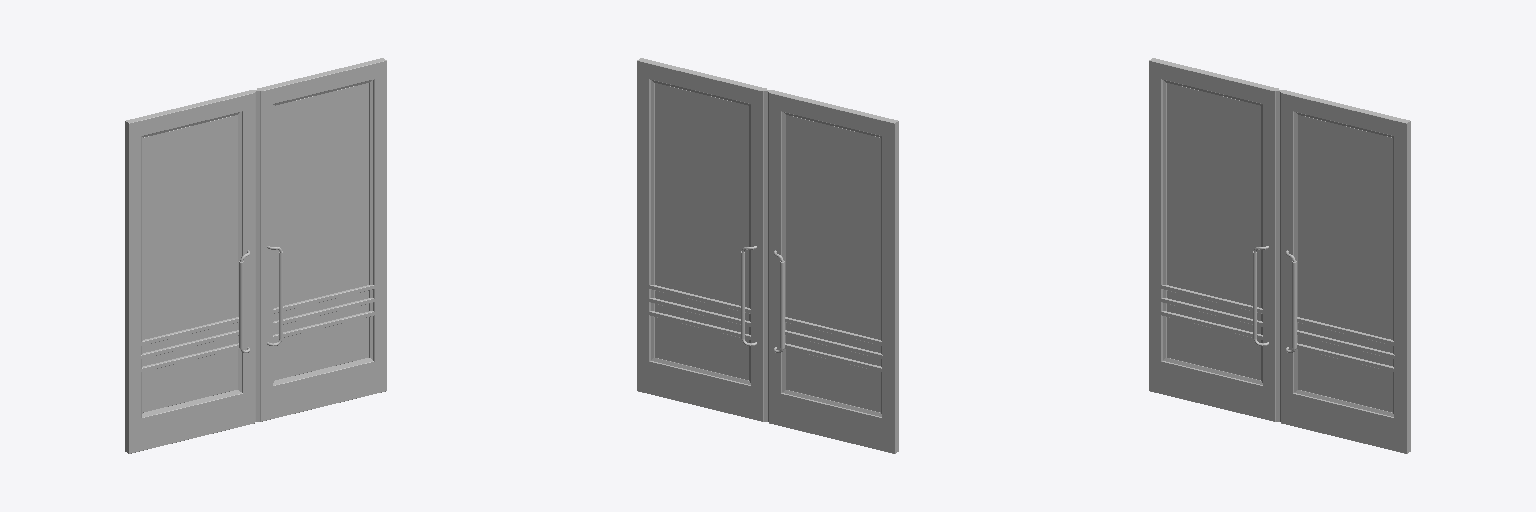
Rendered from Doors - Double - 1.obj.
The picture shows the model from 3 angles: view 1: azimuth 30°, elevation 25°; view 2: azimuth 150°, elevation 25°; view 3: azimuth 330°, elevation 25°; orthographic projection.
Visible parts, largest first — view 1: object7, object3, object5, object1, object2, object6, object4; view 2: object7, object3, object5, object1, object2, object6, object4; view 3: object3, object7, object1, object5, object6, object2, object8.
Part boxes in pixels (left/top/right/bottom): object7: left=143, top=115, right=237, bottom=412; object3: left=275, top=83, right=368, bottom=379; object5: left=125, top=90, right=254, bottom=453; object1: left=257, top=58, right=386, bottom=421; object2: left=273, top=80, right=372, bottom=384; object6: left=142, top=112, right=243, bottom=416; object4: left=256, top=89, right=259, bottom=421; object7: left=786, top=115, right=880, bottom=412; object3: left=655, top=83, right=748, bottom=379; object5: left=769, top=90, right=898, bottom=453; object1: left=637, top=58, right=766, bottom=421; object2: left=651, top=80, right=750, bottom=384; object6: left=780, top=112, right=881, bottom=416; object4: left=764, top=89, right=767, bottom=421; object3: left=1298, top=115, right=1392, bottom=412; object7: left=1167, top=83, right=1260, bottom=379; object1: left=1281, top=90, right=1410, bottom=453; object5: left=1149, top=58, right=1278, bottom=421; object6: left=1163, top=80, right=1262, bottom=384; object2: left=1292, top=112, right=1393, bottom=416; object8: left=1276, top=89, right=1279, bottom=421.
Size of the model in its own units: 91.8 by 112 by 8.02.